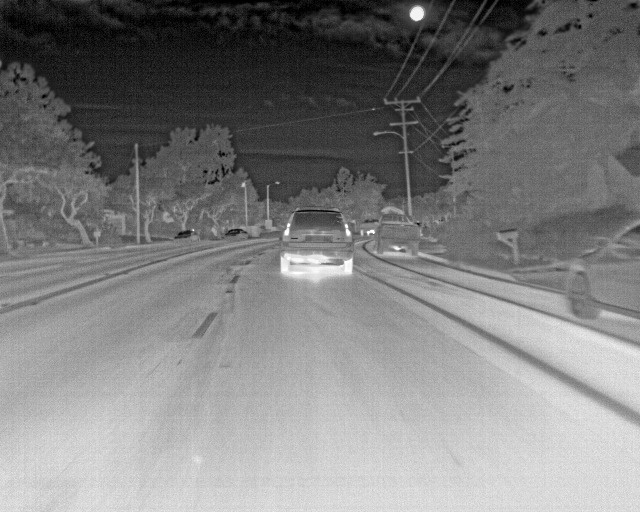vehicle: (562, 222, 640, 318), (280, 207, 355, 282), (375, 215, 423, 261)
